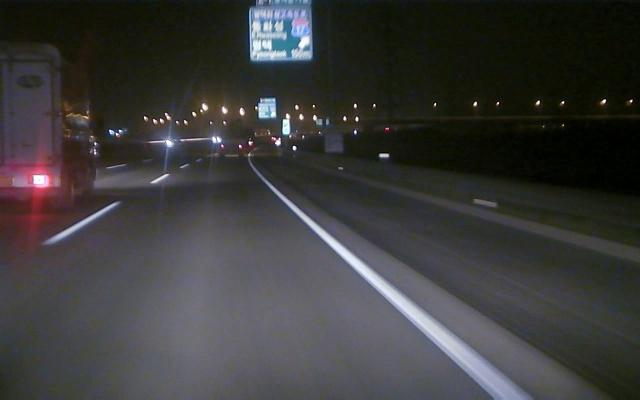lane: (262, 178, 535, 398), (40, 176, 165, 247)
